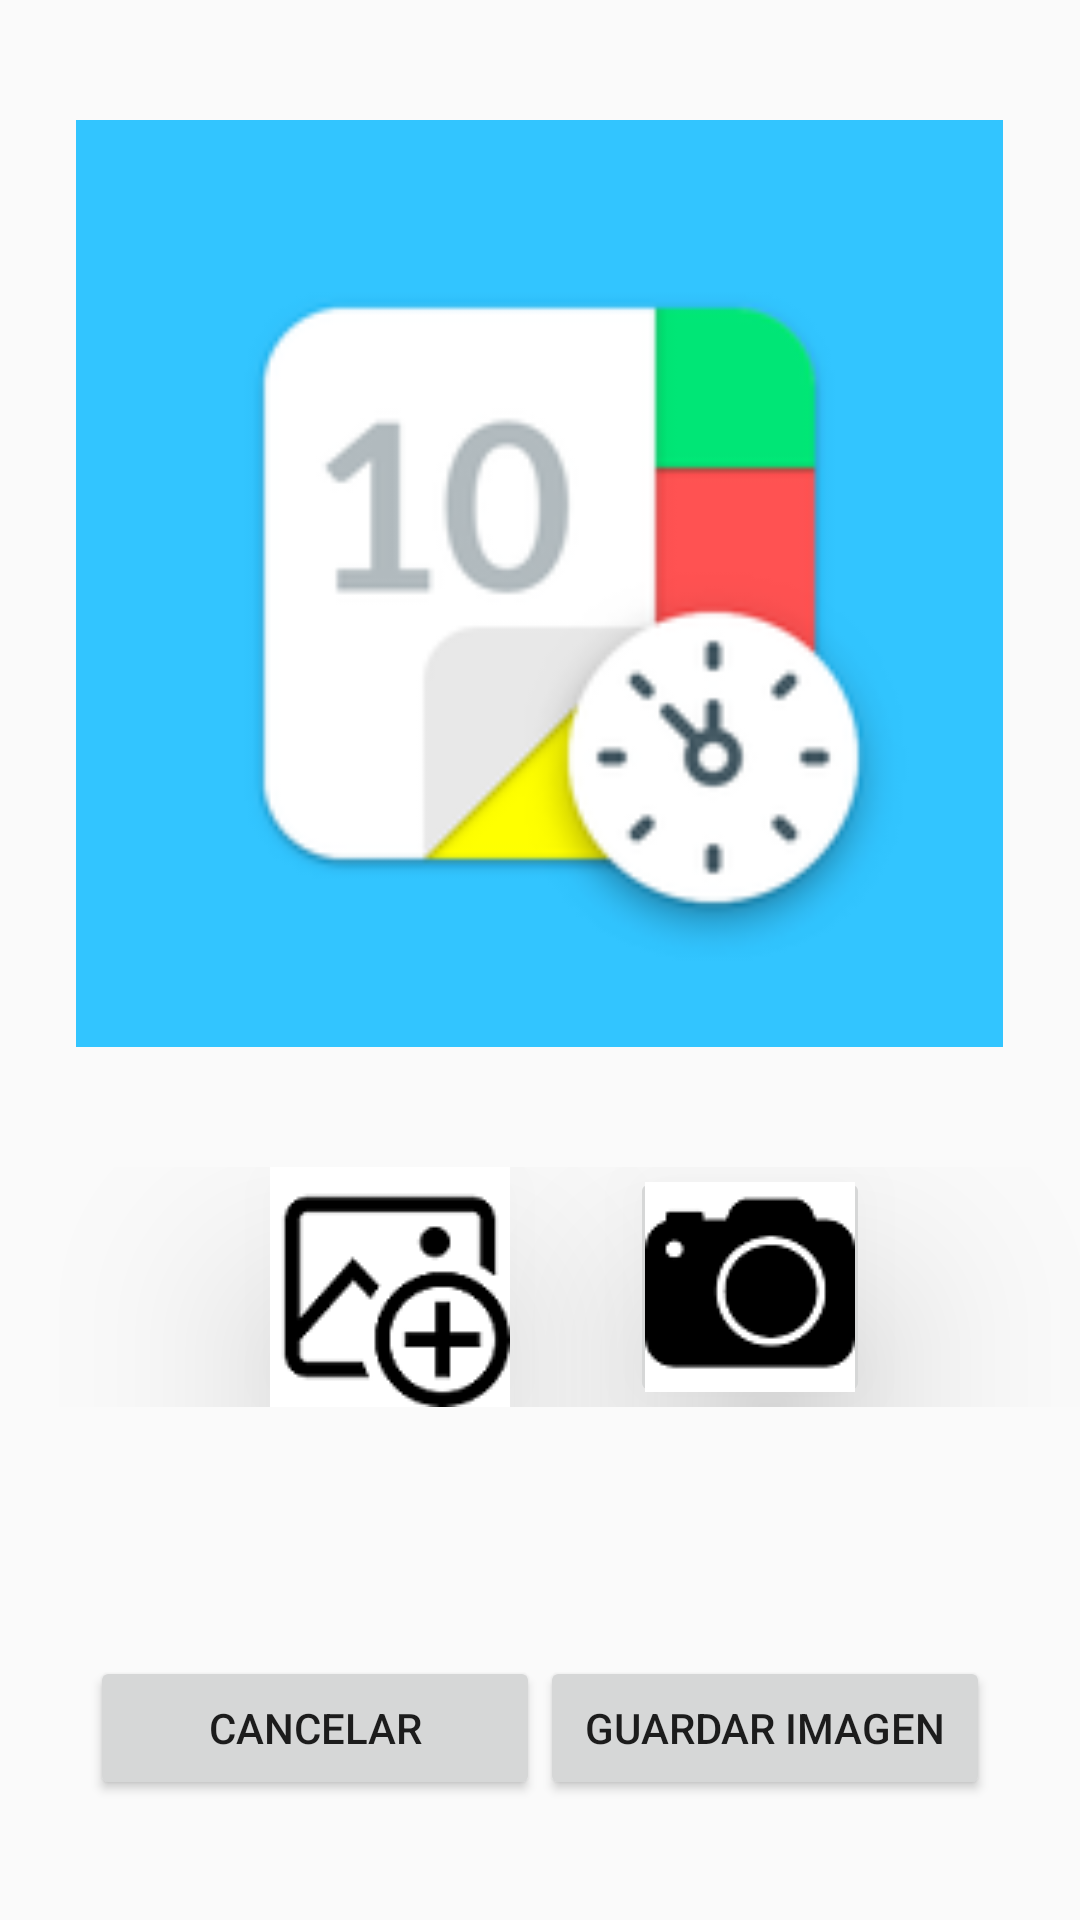

Where to tap for icons on this 1080×1920 app screen, as (x,y):
camara: (750,1297)
galeria: (396,1300)
